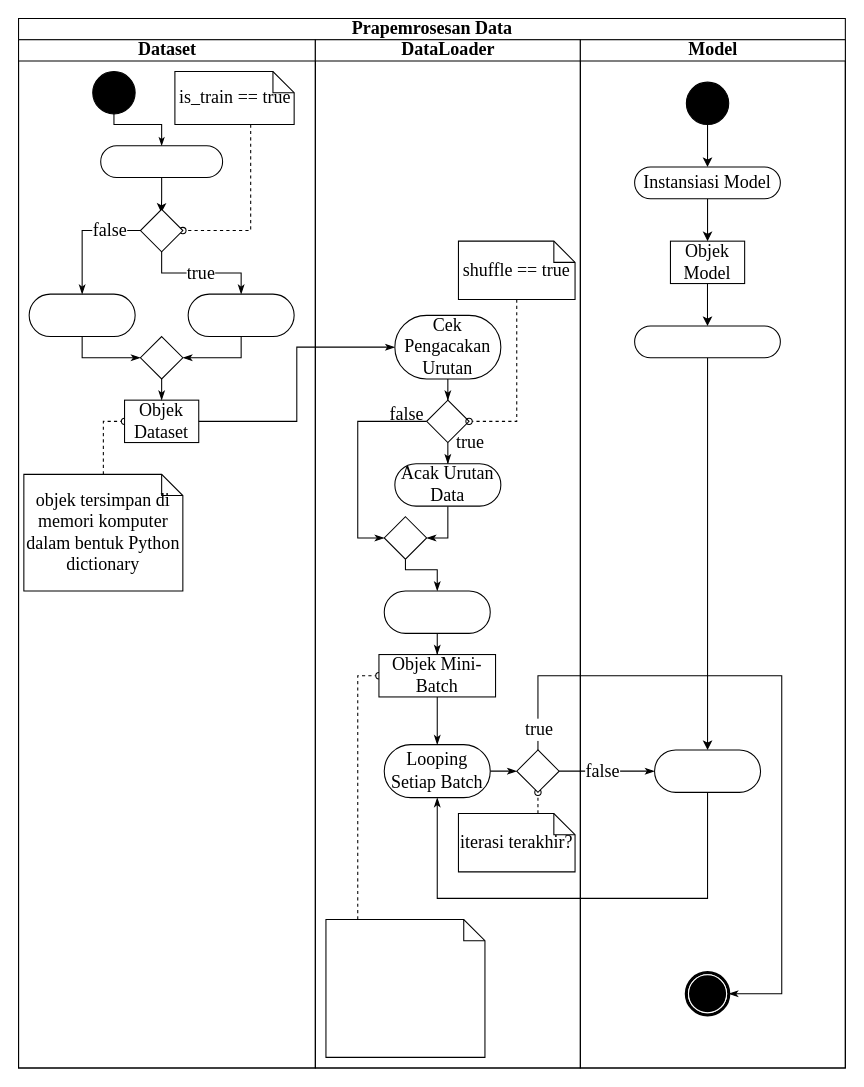
Some shapes in this 864 by 1087 pixel diagram are drawn without their labels. Here are the shapes that lost their labels. From the top down, the box of each, then its label:
(100, 145, 223, 178): Cek Jenis Data
(28, 293, 135, 337): Muat Data Validasi
(187, 293, 294, 337): Muat Data Pelatihan
(634, 325, 780, 358): Inisialisasi Bobot
(383, 590, 490, 633): Pembagian Mini-Batch
(653, 749, 761, 792): Latih Model
(325, 918, 485, 1057): objek berbentuk iterator yang dapat diakses dengan looping pada setiap batch.
